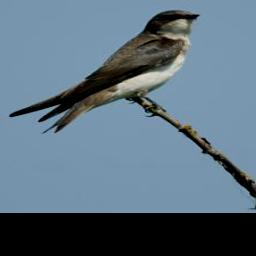Swallow: (9, 9, 202, 134)
